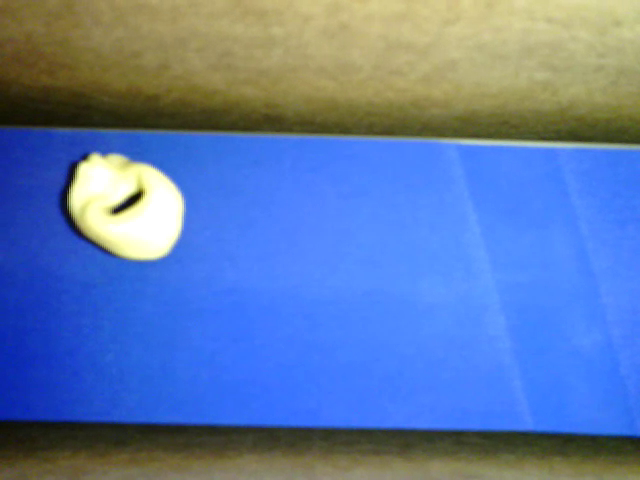tortellini: (65, 152, 185, 260)
